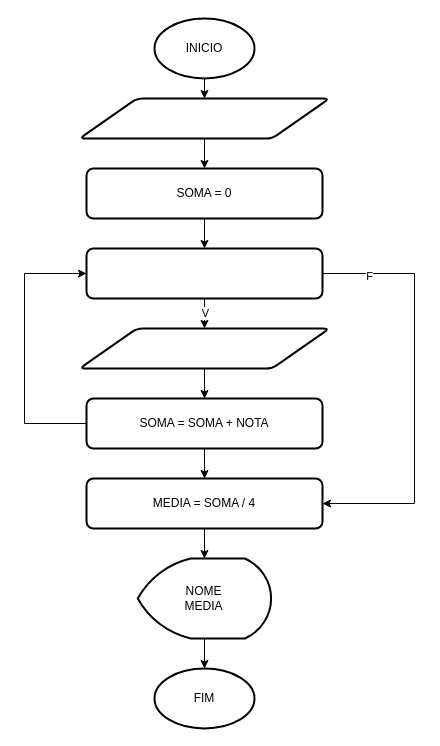
This 440x746 diagram has some shape labels left out. The box of each missing label's shape, as (x1, y1, x2, y2) in pixels:
CONTADOR = 1, <=4, +1: (85, 247, 323, 299)
NOME: (78, 97, 330, 139)
NOTA: (78, 327, 330, 369)
